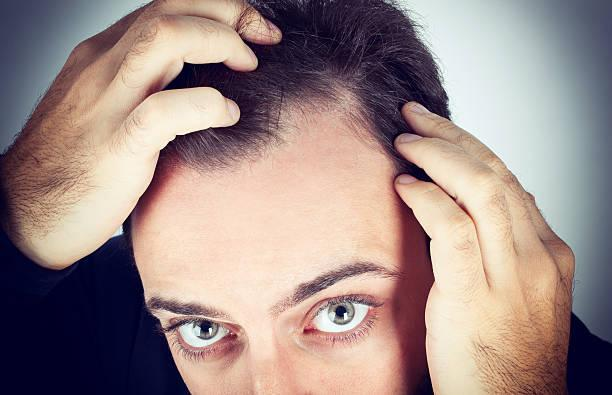dandruff: (260, 123, 290, 137), (348, 94, 358, 107), (355, 31, 364, 43)
